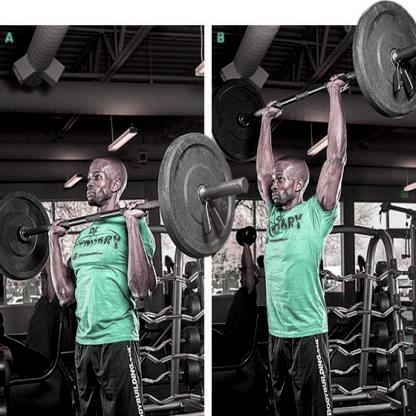Barbell: (195, 173, 251, 213)
